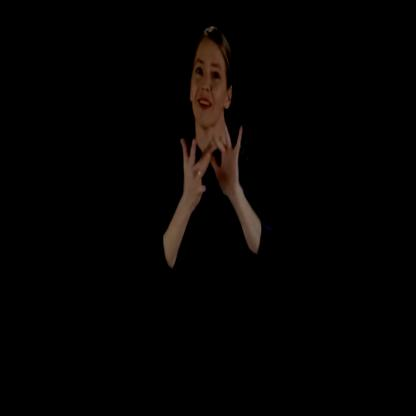Internet: (173, 116, 252, 221)
